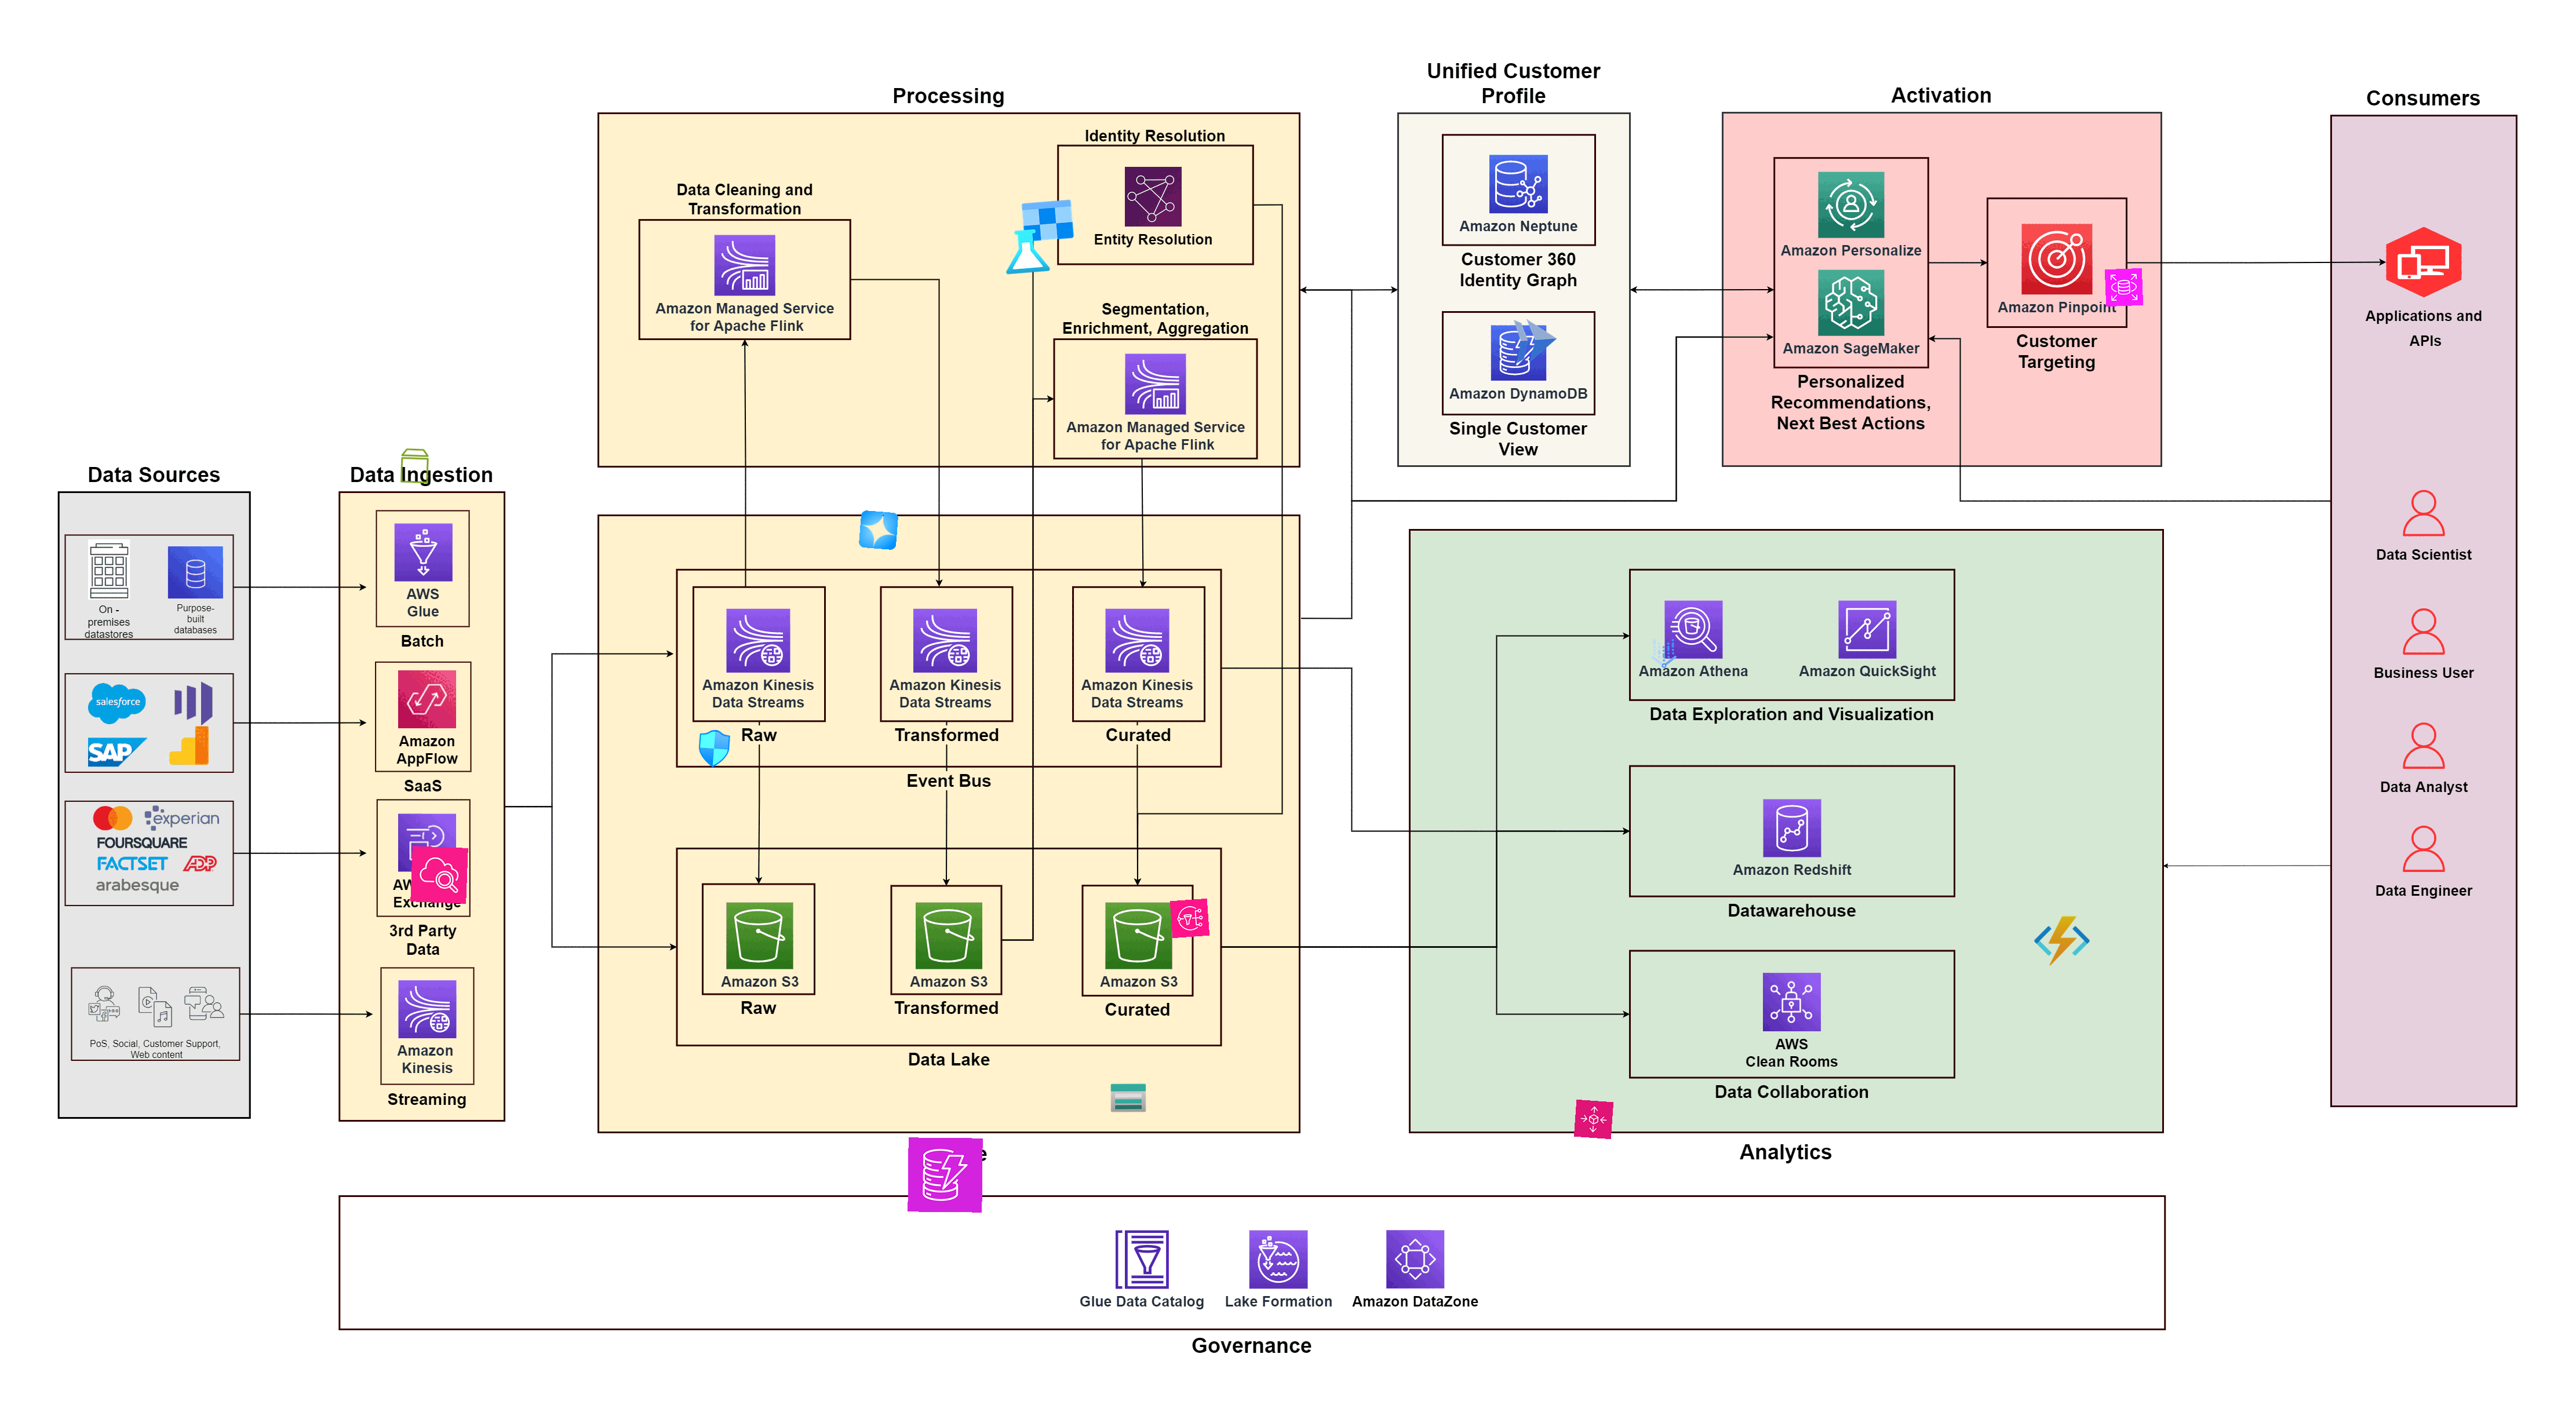aws_amazon_cloudwatch: (410, 846, 467, 903)
aws_amazon_dynamodb: (907, 1137, 984, 1212)
aws_amazon_rds: (2105, 267, 2143, 307)
aws_amazon_simple_notification_service: (1170, 898, 1210, 938)
aws_auto_scaling: (1573, 1099, 1613, 1140)
aws_elastic_block_store_volume: (396, 446, 434, 485)
azure_function_apps: (2034, 912, 2091, 970)
azure_machine_learning_studio_workspaces: (999, 197, 1078, 277)
azure_network_security_groups: (694, 729, 734, 769)
azure_openai: (858, 509, 898, 551)
azure_storage_accounts: (1109, 1079, 1148, 1118)
gcp_cloud_run: (1505, 310, 1564, 370)
gcp_vertex_ai: (1645, 635, 1683, 673)
